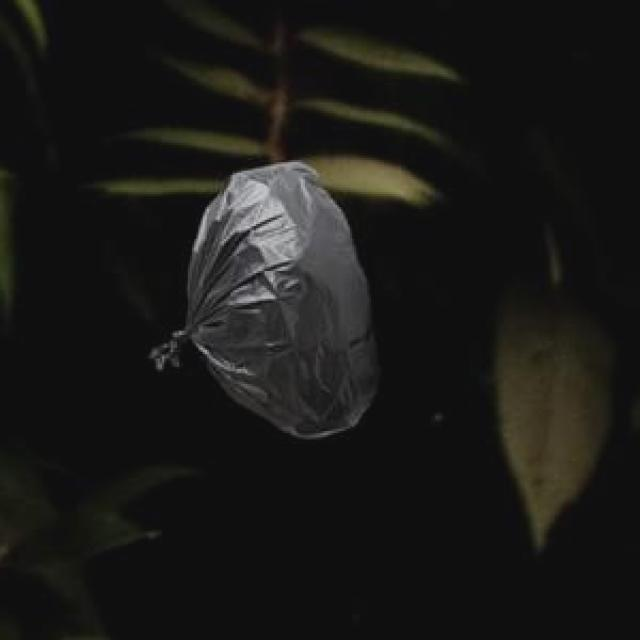Trashbag: (136, 154, 394, 450)
